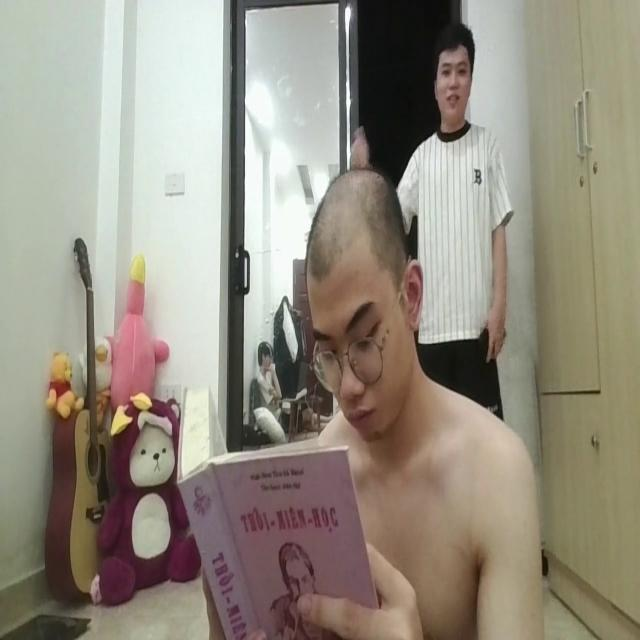book: (175, 381, 382, 640)
extra_person: (386, 29, 514, 422), (254, 330, 282, 418)
student: (280, 168, 544, 640)
